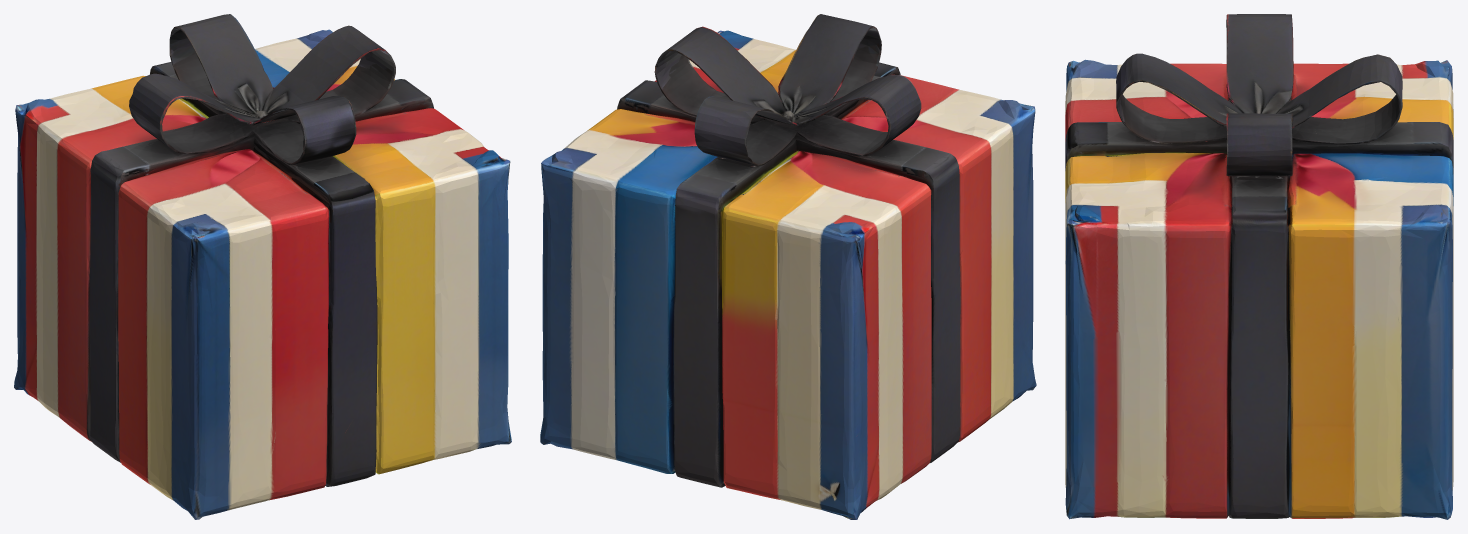
The model's file is Colorful_Surprise_0430093943_texture.fbx.
3 renders of one model, left to right at view 1: azimuth 30°, elevation 25°; view 2: azimuth 150°, elevation 25°; view 3: azimuth 270°, elevation 25°, orthographic. The views are drawn at different scales.
Visible parts, largest first — view 1: temp; view 2: temp; view 3: temp.
Part boxes in pixels (left/top/right/bottom): temp: left=14, top=14, right=511, bottom=519; temp: left=540, top=14, right=1036, bottom=519; temp: left=1065, top=14, right=1453, bottom=519.
Bounding box in the file's own units: 188 × 200 × 188.
Materials: 1 (1 with a texture image).
